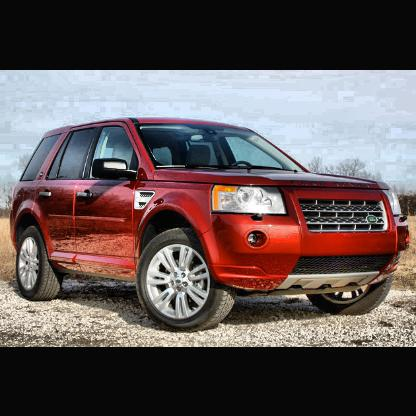Land Rover LR2 SUV 2012: (9, 117, 413, 334)
